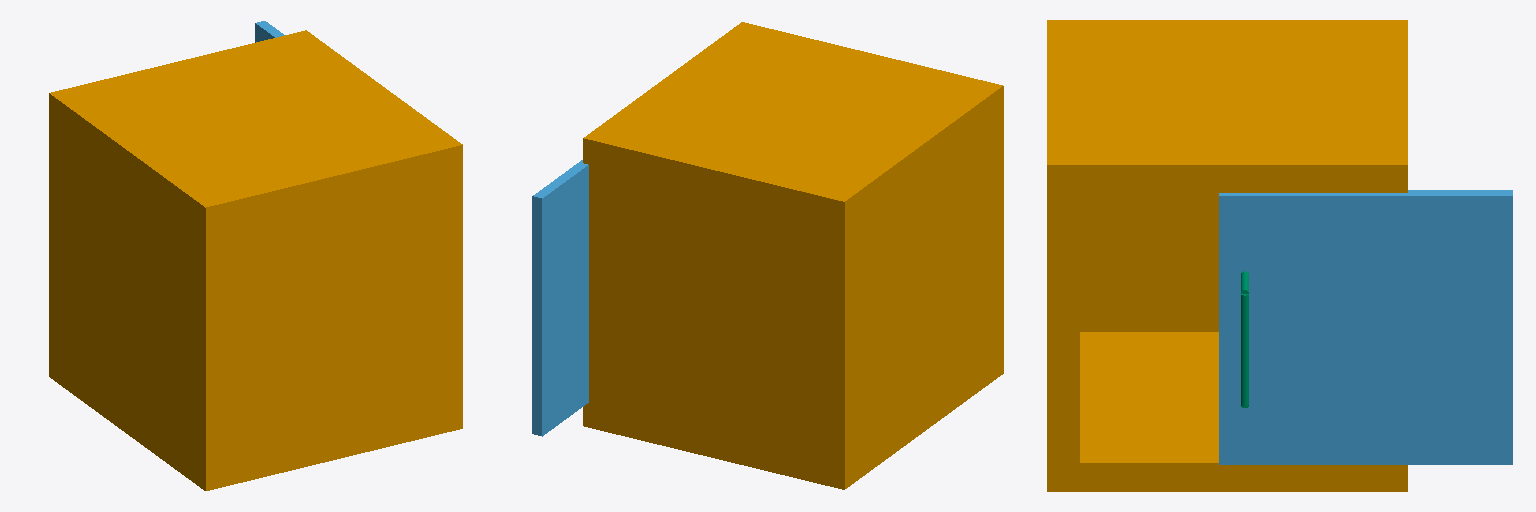
The robot description file, URDF, robot "small_shelf_door":
<robot name="small_shelf_door">
  <link name="body">
    <visual>
      <origin rpy="0 0 0" xyz="0 0 0.1885"/>
      <geometry>
        <box size="0.392 0.413 0.036"/>
      </geometry>
    </visual>
    <visual>
      <origin rpy="0 0 0" xyz="0 0 -0.1885"/>
      <geometry>
        <box size="0.392 0.413 0.036"/>
      </geometry>
    </visual>
    <visual>
      <origin rpy="0 0 0" xyz="0 0.1875 0"/>
      <geometry>
        <box size="0.392 0.038 0.347"/>
      </geometry>
    </visual>
    <visual>
      <origin rpy="0 0 0" xyz="0 -0.1875 0"/>
      <geometry>
        <box size="0.392 0.038 0.347"/>
      </geometry>
    </visual>
    <visual>
      <origin rpy="0 0 0" xyz="-0.178 0 0"/>
      <geometry>
        <box size="0.036 0.347 0.341"/>
      </geometry>
    </visual>
  </link>
  
  <link name="door">
    <origin rpy="0 0 0" xyz="-0.01 -0.1585 0"/>
    <visual>
      <origin rpy="0 0 0" xyz="0 0 0"/>
      <geometry>
        <box size="0.015 0.337 0.341"/>
      </geometry>
    </visual>
  </link>

  <joint name="door_joint" type="revolute">
    <origin rpy="0 0 0" xyz="0.195 0.1585 0" />
    <parent link="body" />
    <child link="door" />
    <axis xyz="0 0 1" />
    <limit effort="60" lower="0.0" upper="1.57" velocity="1" />
  </joint>

  <link name="handle">
    <visual>
      <origin rpy="0 0 0" xyz="0.05 0 0"/>
      <geometry>
        <cylinder radius="0.005" length="0.14"/>
      </geometry>
    </visual>
    <visual>
      <origin rpy="0 1.57 0" xyz="0.025 0 0.07"/>
      <geometry>
        <cylinder radius="0.005" length="0.05"/>
      </geometry>
    </visual>
    <visual>
      <origin rpy="0 1.57 0" xyz="0.025 0 -0.07"/>
      <geometry>
        <cylinder radius="0.005" length="0.05"/>
      </geometry>
    </visual>
  </link>
  
  <joint name="handle_joint" type="fixed">
    <origin rpy="0 0 0" xyz="0.0075 -0.1385 0" />
    <parent link="door" />
    <child link="handle" />
  </joint>

  <link name="marker_body"/>

  <joint name="marker_body_joint" type="fixed">
    <origin rpy="0 0 -1.57" xyz="-0.147 0.1575 0.2065"/>
    <parent link="body"/>
    <child  link="marker_body"/>
  </joint>

  <link name="marker_door"/>

  <joint name="marker_door_joint" type="fixed">
    <origin rpy="1.57 0 1.57" xyz="0.0075 -0.1235 0.1255"/>
    <parent link="door"/>
    <child  link="marker_door"/>
  </joint>  
</robot>

--- Facts derived from the render (not from the file) ---
Views: 3 orthographic renders of the robot side by side, from view 1: azimuth 30°, elevation 25°; view 2: azimuth 150°, elevation 25°; view 3: azimuth 270°, elevation 25°.
Robot: small_shelf_door — 5 links, 4 joints (1 revolute, 3 fixed); root link body; default pose: every joint at zero.
Visible links, largest first — view 1: body; view 2: body, door; view 3: body, door, handle.
Boxes of the visible links, x1,y1,x2,y2 form: body: (49,30,462,490); body: (583,22,1003,489); door: (532,160,588,436); body: (1047,20,1407,491); door: (1219,190,1512,464); handle: (1241,271,1248,407).
Size in the robot's own frame: 0.4535 by 0.5335 by 0.413 metres.
Geometry: primitives only (box / cylinder / sphere), no mesh files.